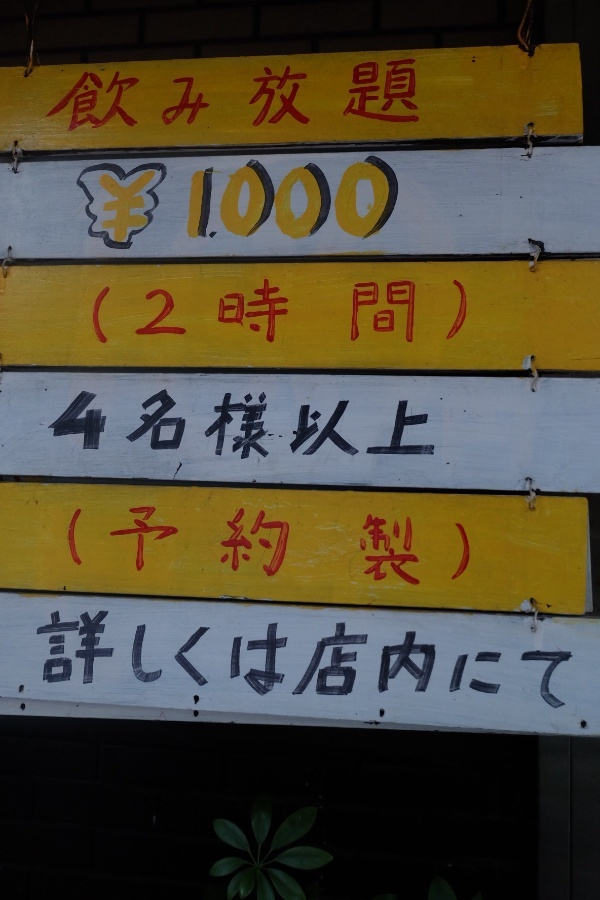text: (561, 605, 577, 717), (49, 605, 64, 717), (65, 605, 80, 717), (81, 605, 96, 717), (97, 605, 112, 717), (113, 605, 128, 717), (129, 605, 144, 717), (145, 605, 160, 717), (161, 605, 176, 717), (177, 605, 192, 717), (193, 605, 208, 717), (209, 605, 224, 717), (225, 605, 240, 717), (241, 605, 256, 717), (257, 605, 272, 717), (273, 605, 288, 717), (289, 605, 304, 717), (305, 605, 320, 717), (321, 605, 336, 717), (337, 605, 352, 717), (353, 605, 368, 717), (369, 605, 384, 717), (385, 605, 400, 717), (401, 605, 416, 717), (417, 605, 432, 717), (433, 605, 448, 717), (449, 605, 464, 717), (465, 605, 480, 717), (481, 605, 496, 717), (497, 605, 512, 717), (513, 605, 528, 717), (529, 605, 544, 717), (545, 605, 560, 717), (81, 152, 96, 258), (97, 152, 112, 258), (113, 152, 128, 258), (129, 152, 144, 258), (145, 152, 160, 258), (161, 152, 176, 258), (177, 152, 192, 258), (193, 152, 208, 258), (209, 152, 224, 258), (225, 152, 240, 258), (241, 152, 256, 258), (257, 152, 272, 258), (273, 152, 288, 258), (289, 152, 304, 258), (305, 152, 320, 258), (321, 152, 336, 258), (337, 152, 352, 258), (353, 152, 368, 258), (369, 152, 384, 258), (385, 152, 400, 258), (81, 498, 96, 592), (97, 498, 112, 592), (113, 498, 128, 592), (129, 498, 144, 592), (145, 498, 160, 592), (161, 498, 176, 592), (177, 498, 192, 592), (193, 498, 208, 592), (209, 498, 224, 592), (225, 498, 240, 592), (241, 498, 256, 592), (257, 498, 272, 592), (273, 498, 288, 592), (289, 498, 304, 592), (305, 498, 320, 592), (321, 498, 336, 592), (337, 498, 352, 592), (353, 498, 368, 592), (369, 498, 384, 592), (385, 498, 400, 592), (401, 498, 416, 592), (417, 498, 432, 592), (433, 498, 448, 592), (449, 498, 464, 592), (65, 53, 80, 141), (81, 53, 96, 141), (97, 53, 112, 141), (113, 53, 128, 141), (129, 53, 144, 141), (145, 53, 160, 141), (161, 53, 176, 141), (177, 53, 192, 141), (193, 53, 208, 141), (209, 53, 224, 141), (225, 53, 240, 141), (241, 53, 256, 141), (257, 53, 272, 141), (273, 53, 288, 141), (289, 53, 304, 141), (305, 53, 320, 141), (321, 53, 336, 141), (337, 53, 352, 141), (353, 53, 368, 141), (369, 53, 384, 141), (385, 53, 400, 141), (401, 53, 416, 141), (65, 387, 80, 475), (81, 387, 96, 475), (97, 387, 112, 475), (113, 387, 128, 475), (129, 387, 144, 475), (145, 387, 160, 475), (161, 387, 176, 475), (177, 387, 192, 475), (193, 387, 208, 475), (209, 387, 224, 475), (225, 387, 240, 475), (241, 387, 256, 475), (257, 387, 272, 475), (273, 387, 288, 475), (289, 387, 304, 475), (305, 387, 320, 475), (321, 387, 336, 475), (337, 387, 352, 475), (353, 387, 368, 475), (369, 387, 384, 475), (385, 387, 400, 475), (401, 387, 416, 475), (417, 387, 432, 475), (37, 605, 48, 717), (113, 275, 128, 348), (129, 275, 144, 348), (145, 275, 160, 348), (161, 275, 176, 348), (177, 275, 192, 348), (193, 275, 208, 348), (209, 275, 224, 348), (225, 275, 240, 348), (241, 275, 256, 348), (257, 275, 272, 348), (273, 275, 288, 348), (289, 275, 304, 348), (305, 275, 320, 348), (321, 275, 336, 348), (337, 275, 352, 348), (353, 275, 368, 348), (369, 275, 384, 348), (385, 275, 400, 348), (401, 275, 416, 348), (417, 275, 432, 348), (433, 275, 448, 348), (449, 275, 464, 348), (433, 387, 443, 475), (100, 275, 112, 348), (71, 498, 80, 592), (56, 387, 64, 475), (57, 53, 64, 141), (465, 498, 471, 592), (417, 53, 422, 141), (76, 152, 80, 258), (465, 275, 468, 348), (401, 152, 402, 258)
